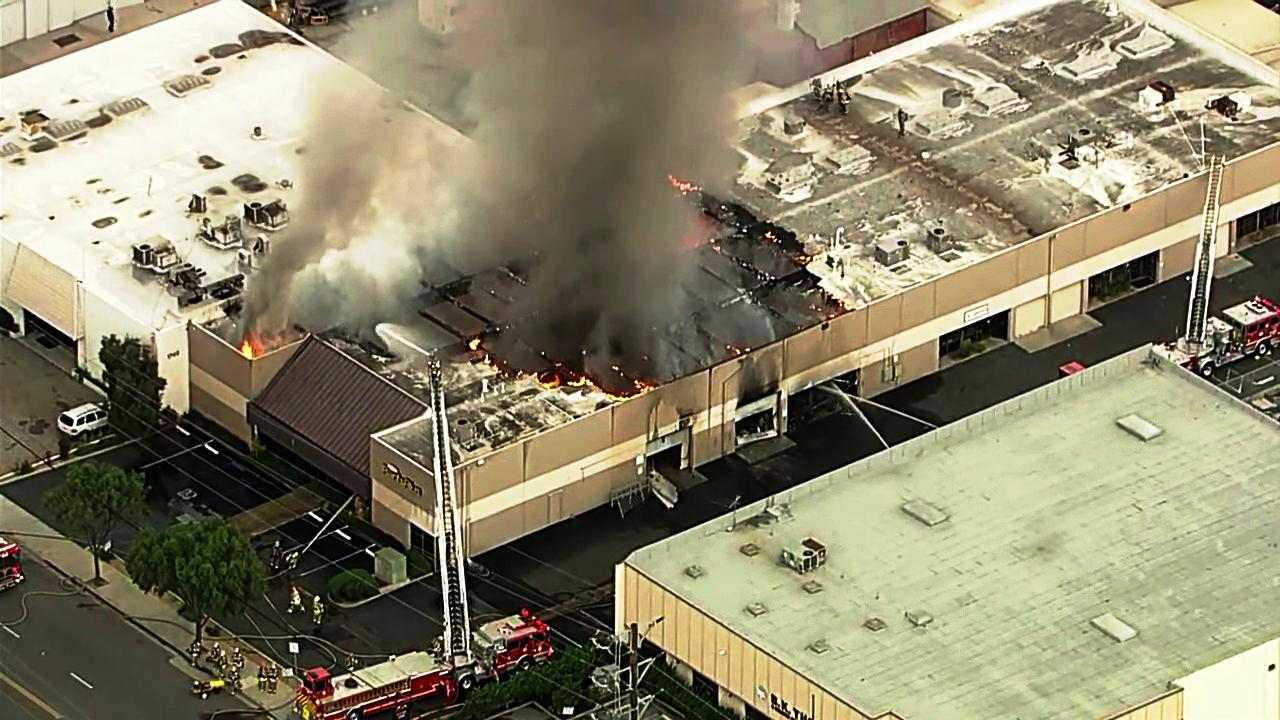smoke: (552, 0, 730, 297)
